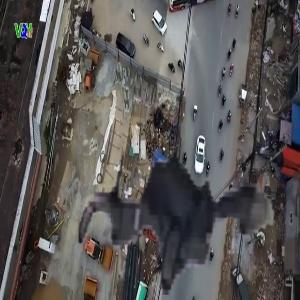drone: (71, 74, 294, 297)
